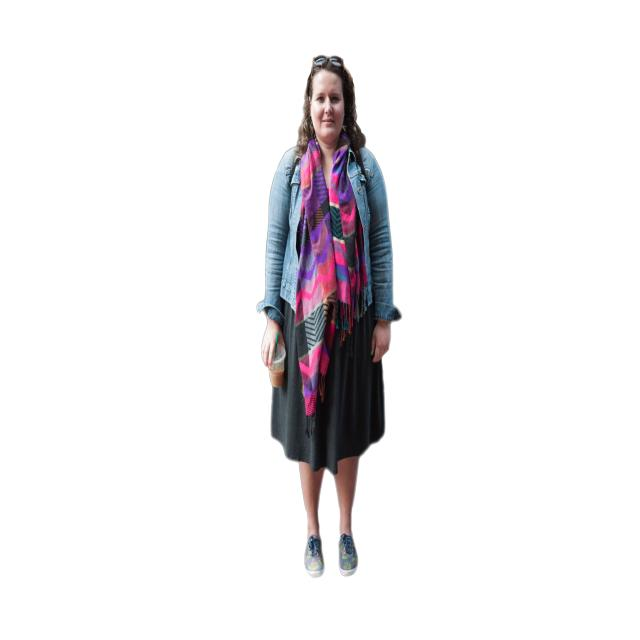jovem: (258, 49, 407, 591)
